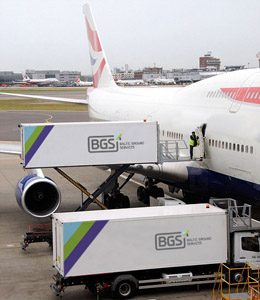Catering truck: (17, 110, 205, 255)
